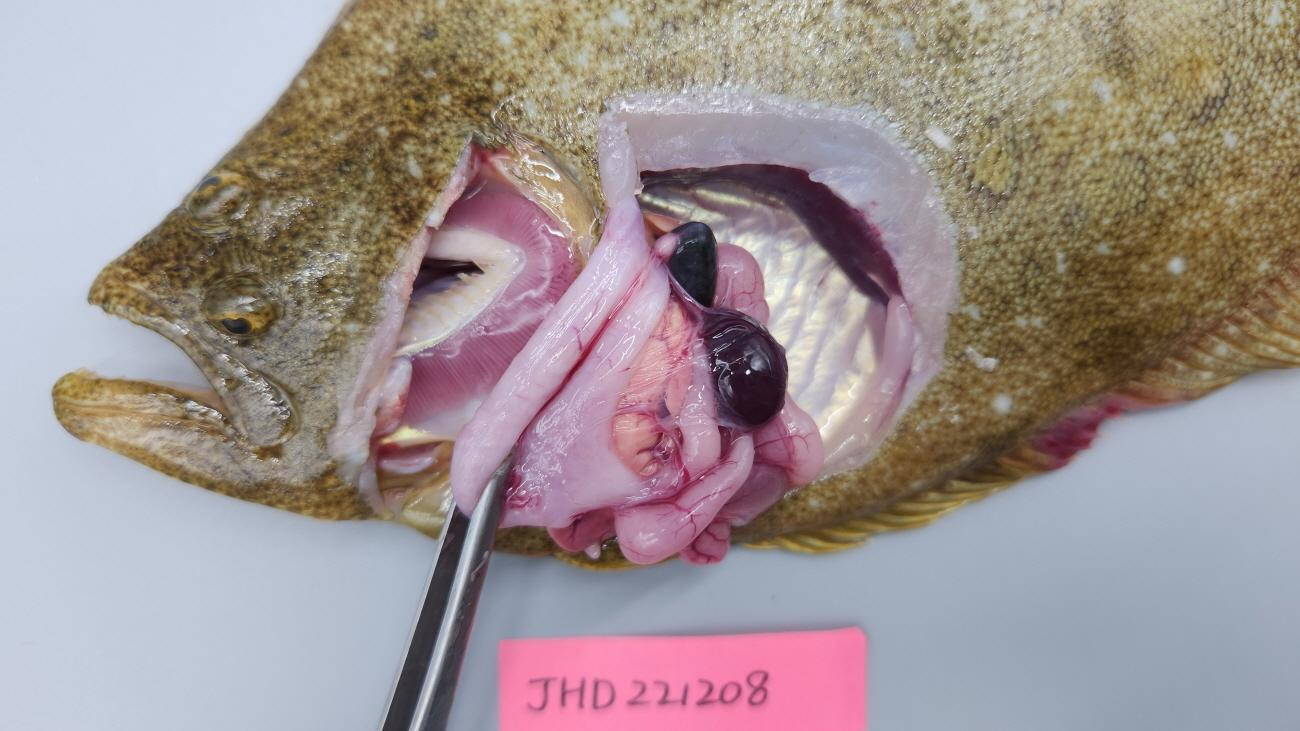VISPE: (700, 307, 788, 428)
